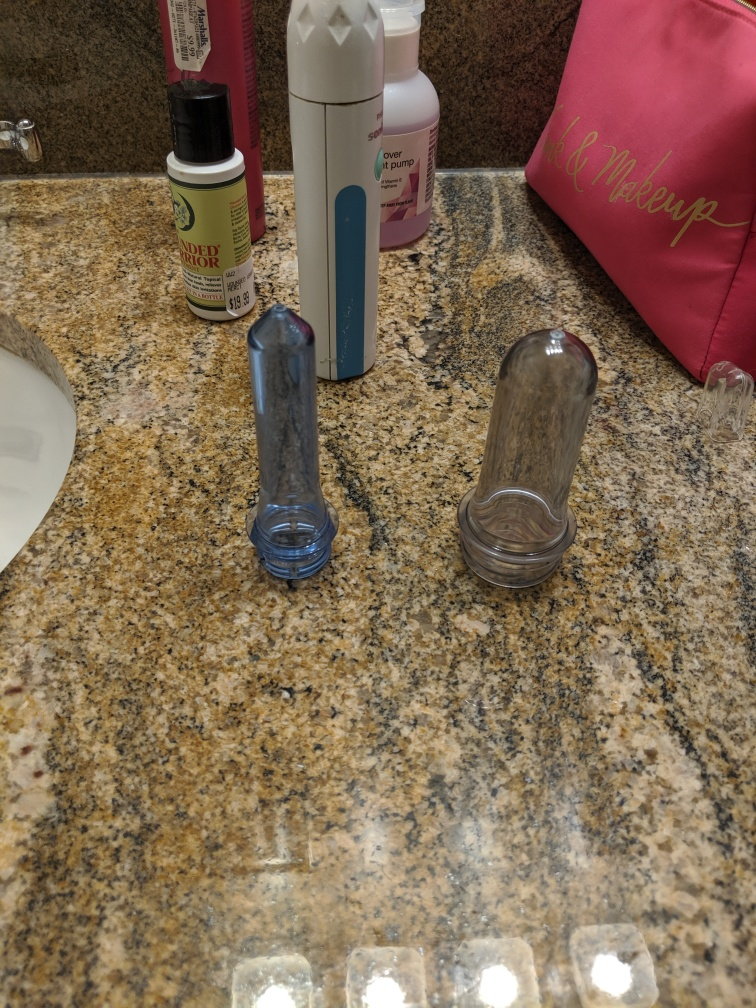preform: (445, 321, 603, 596), (236, 299, 347, 591)
